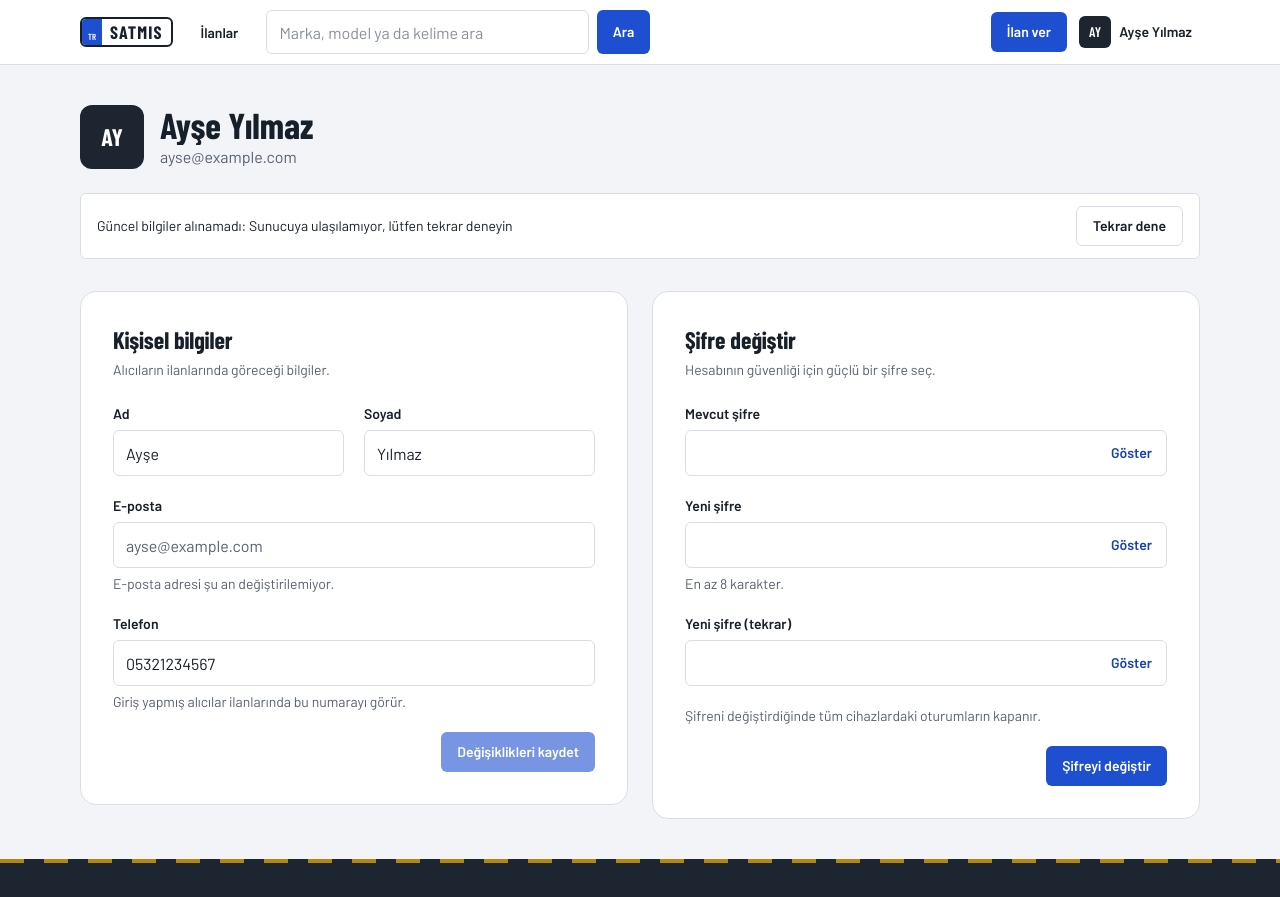
Scenario: ProfileForm phone › clearingPhone_isRejectedBeforeRequest
Clear the field labelled "Telefon" at {"x": 354, "y": 663}, box [114,641,594,685]
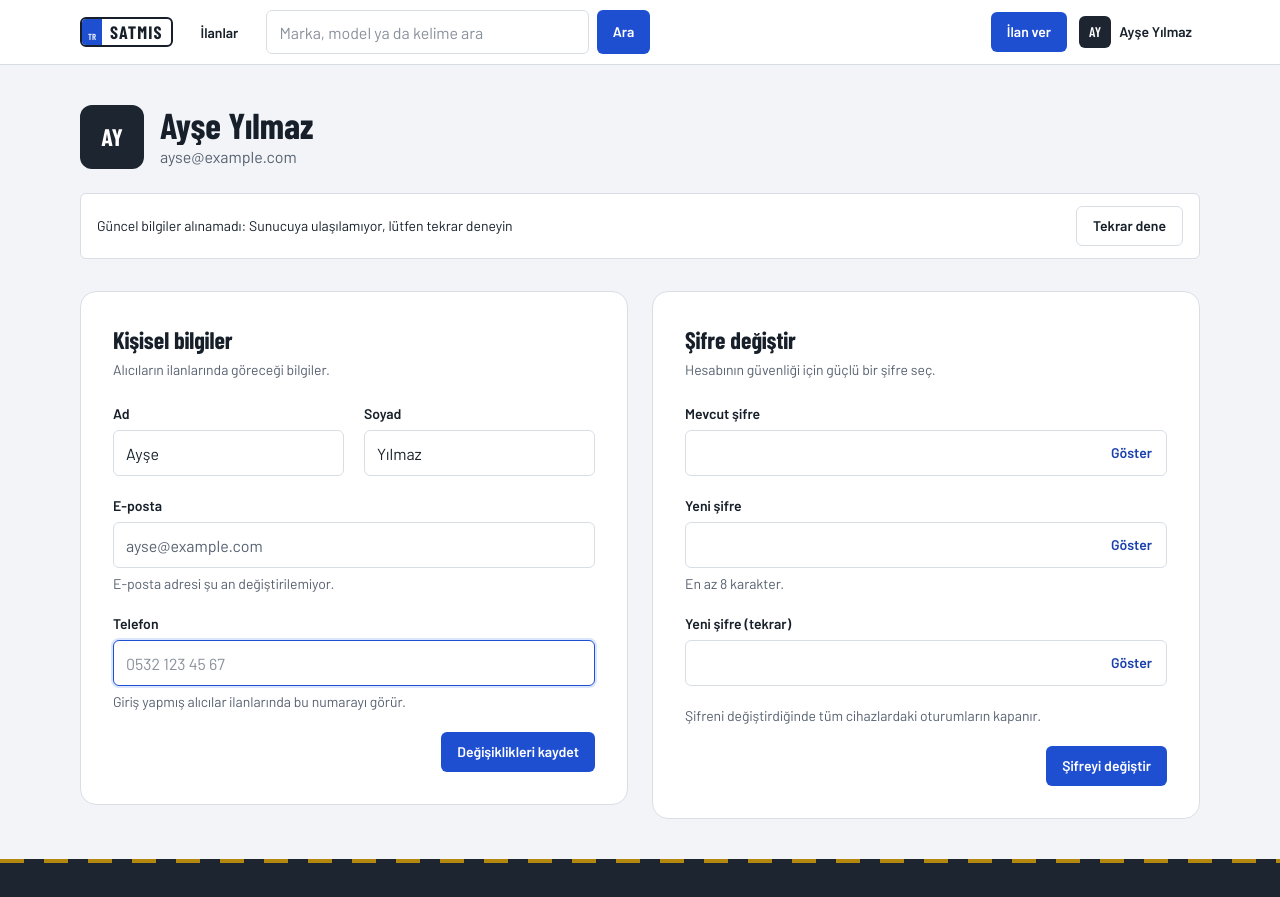
Click the button "Değişiklikleri kaydet" at {"x": 518, "y": 752}, box [441,732,595,772]
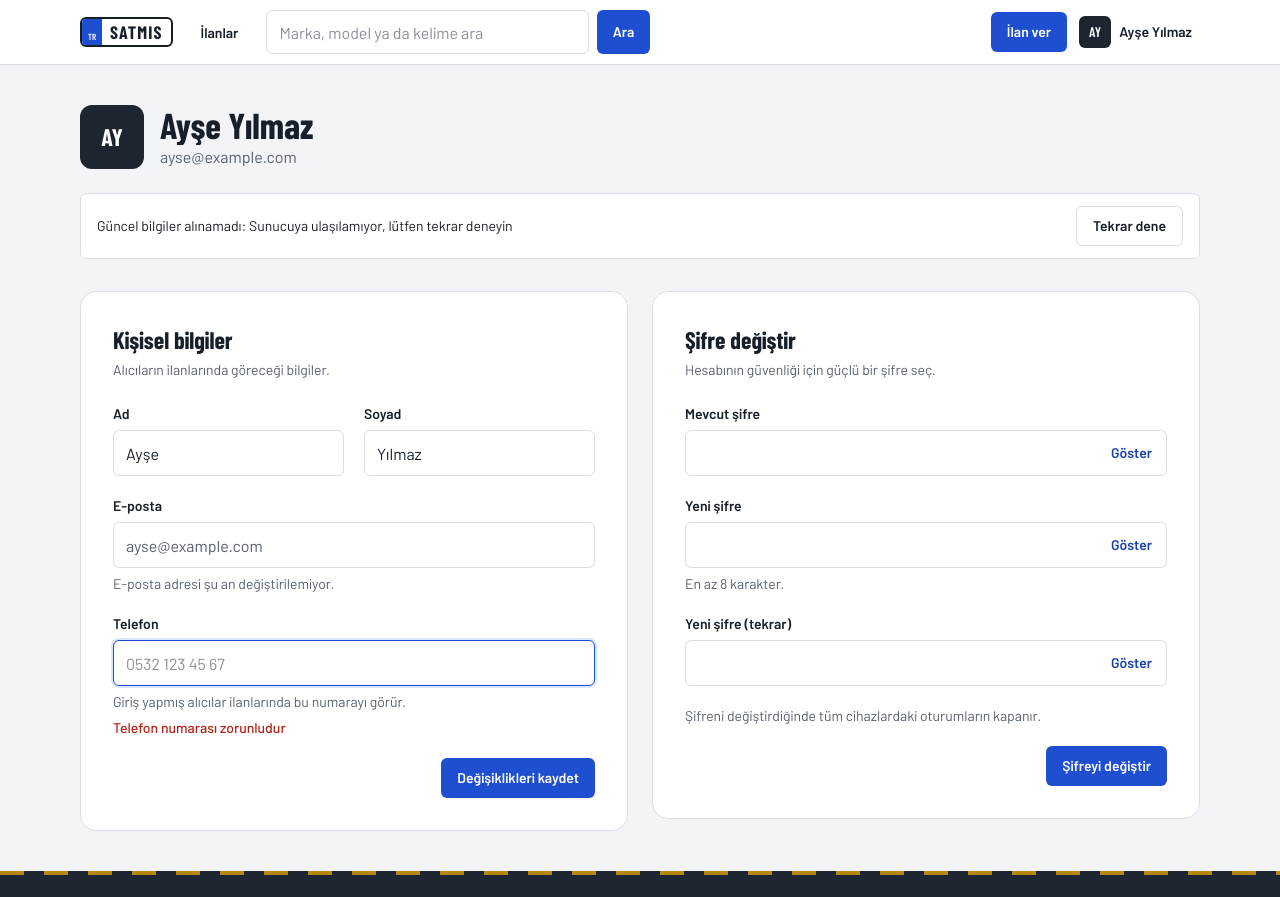
Expected: the text "Telefon numarası zorunludur" is shown, [113,719,286,736]
